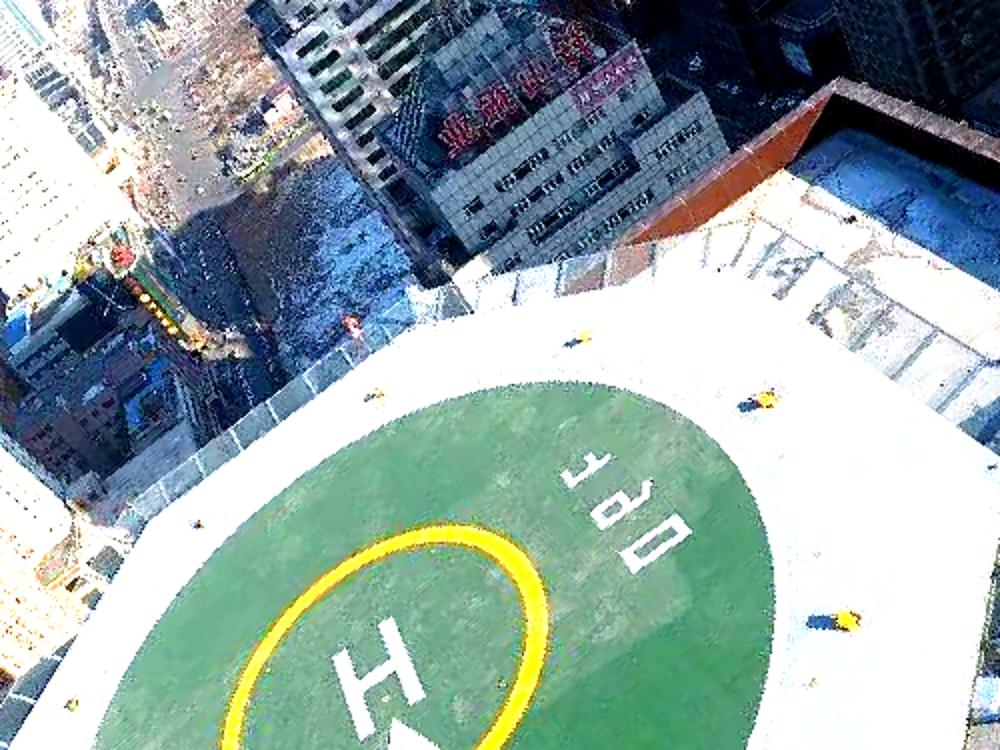Apron: (215, 514, 594, 750)
